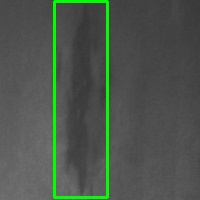inclusion: (54, 1, 107, 197)
